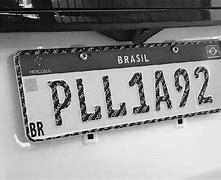placa_mercosul: (11, 32, 220, 145)
